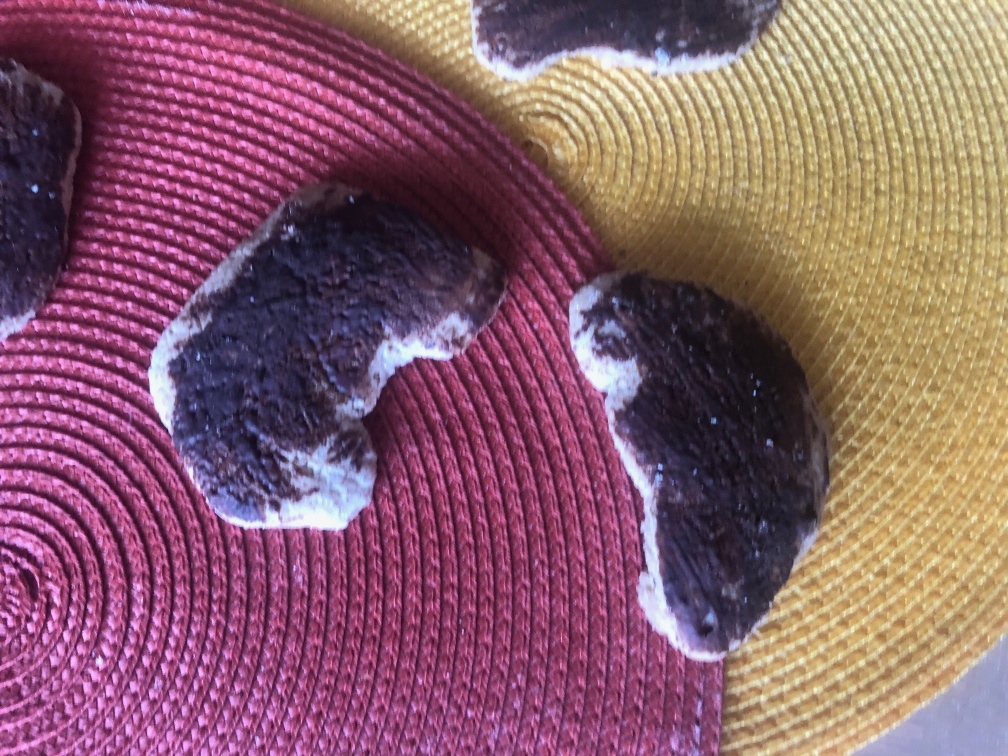weird #1: (138, 168, 502, 545), (559, 261, 834, 670), (1, 37, 86, 345), (461, 1, 790, 78)
